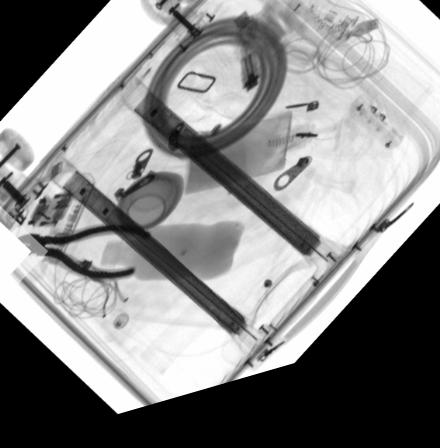Pliers: (6, 230, 151, 284)
